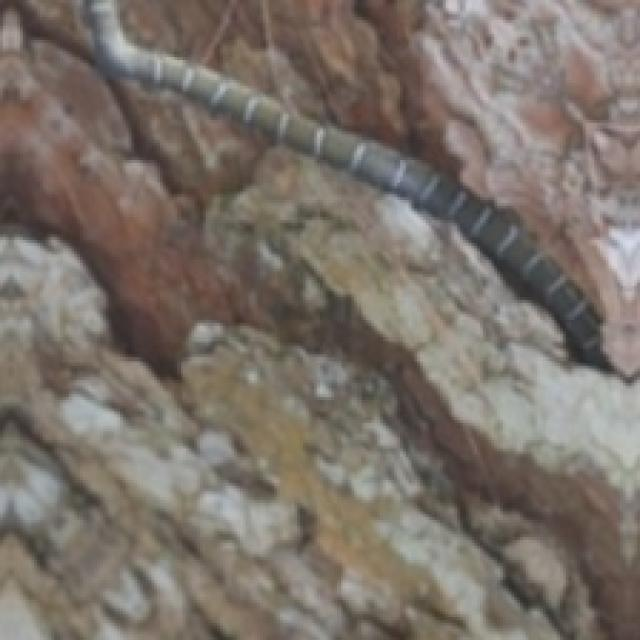reddish rat snake: (89, 0, 611, 369)
